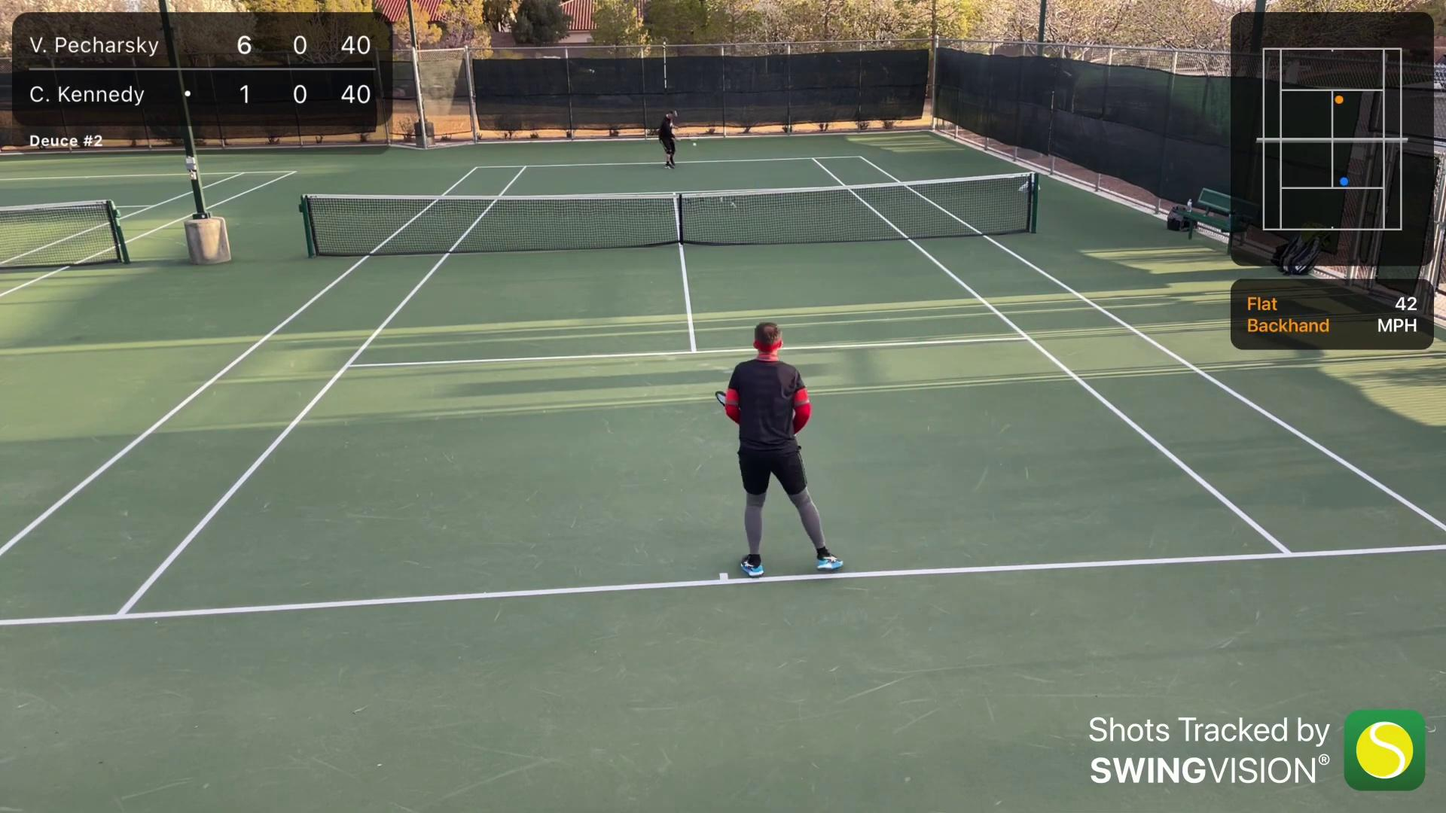ball: (692, 142, 697, 148)
